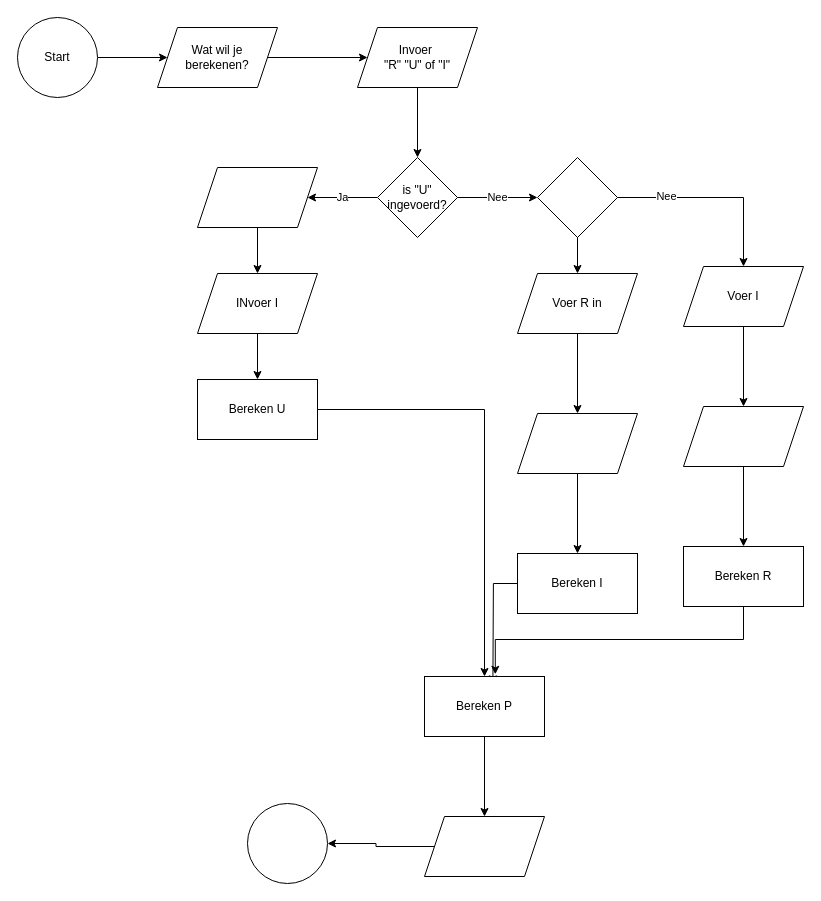
Image size: 821x901. Some labels were removed from this diagram. Here are the shapes that lost their labels. From the top down, the centre of each, then its label:
(x=257, y=197): INvoer R
(x=577, y=197): "I" ingevoerd?
(x=577, y=443): Voer U in
(x=743, y=436): Voer U
(x=484, y=846): Toon P, U, I, en R
